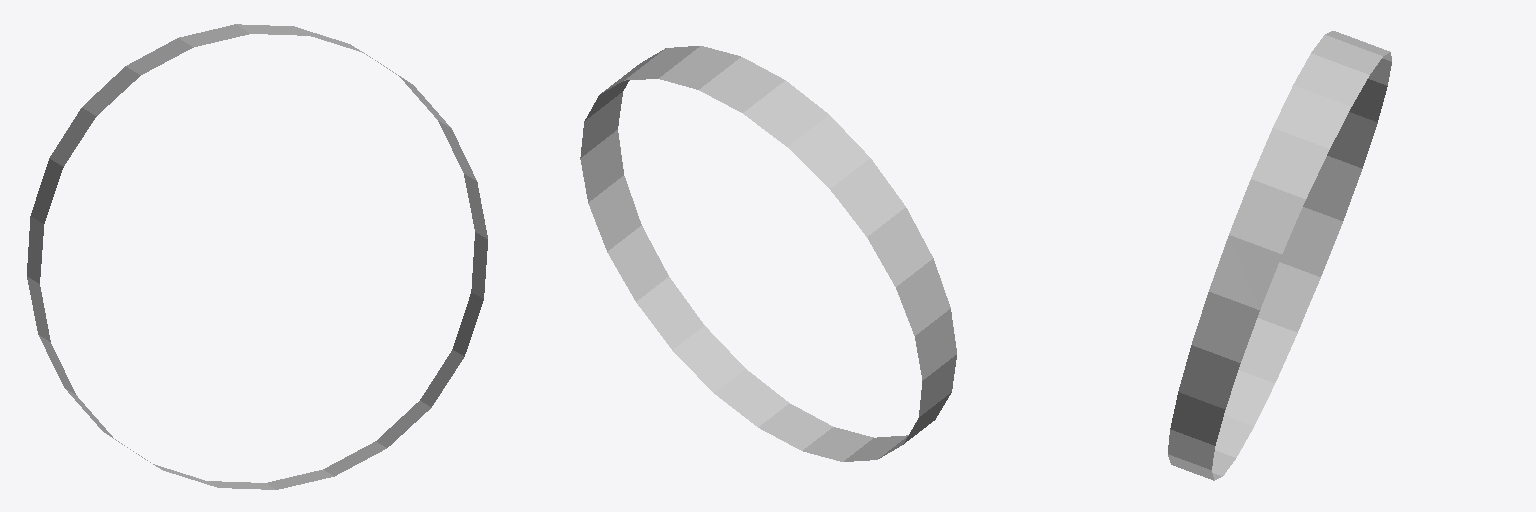
File: original-28.obj
The picture shows the model from 3 angles: view 1: azimuth 30°, elevation 25°; view 2: azimuth 150°, elevation 25°; view 3: azimuth 270°, elevation 25°; orthographic projection.
Visible parts, largest first — view 1: #ID139; view 2: #ID139; view 3: #ID139.
Part boxes in pixels (x1,y1,x2,y2): #ID139: (27,24,487,489); #ID139: (580,46,956,461); #ID139: (1168,31,1391,480).
Size of the model in its own units: 0.0261 by 0.026 by 0.0127.